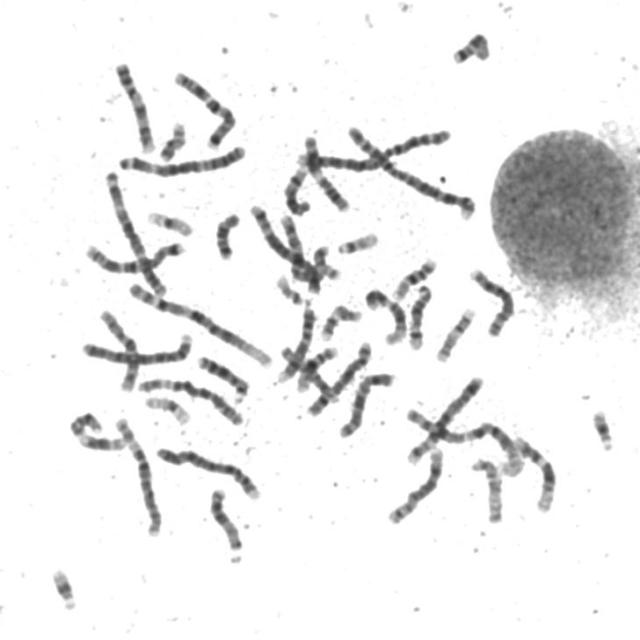A1: (122, 278, 278, 369), (403, 402, 528, 479)
A2: (342, 120, 481, 220), (294, 121, 456, 174)
A3: (99, 164, 170, 299), (115, 139, 250, 178)
B4: (152, 441, 265, 502), (78, 327, 196, 367)
B5: (403, 369, 488, 466), (245, 198, 328, 291)
C10: (94, 304, 143, 392), (275, 208, 324, 288)
C11: (299, 128, 353, 213), (65, 406, 131, 452)
C12: (511, 430, 561, 514), (360, 282, 410, 346)
C6: (110, 411, 165, 538), (134, 372, 248, 428)
C7: (169, 64, 240, 150), (80, 233, 189, 276)
C8: (382, 441, 448, 527), (465, 262, 519, 338)
C9: (110, 56, 159, 154), (273, 298, 320, 384)
D13: (192, 348, 252, 404), (206, 482, 247, 557)
D14: (404, 278, 436, 351), (279, 160, 314, 217)
D15: (281, 345, 334, 401), (467, 452, 506, 525)
E16: (290, 341, 341, 394), (388, 253, 441, 302)
E17: (432, 302, 479, 364), (316, 299, 364, 342)
E18: (211, 206, 244, 262), (448, 26, 494, 66)
F19: (140, 390, 194, 426), (142, 205, 196, 238)
F20: (155, 115, 190, 163), (308, 240, 343, 282)
G21: (46, 562, 81, 612), (587, 403, 619, 452)
G22: (333, 226, 382, 256), (272, 269, 308, 306)
X: (335, 366, 397, 441)
